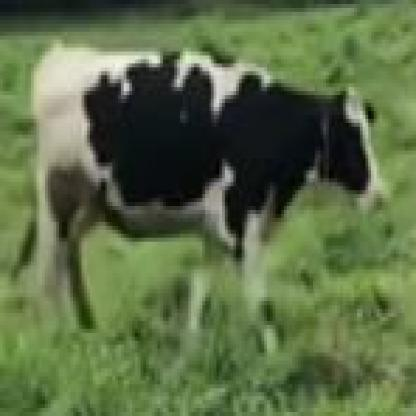cow: (32, 47, 390, 329)
